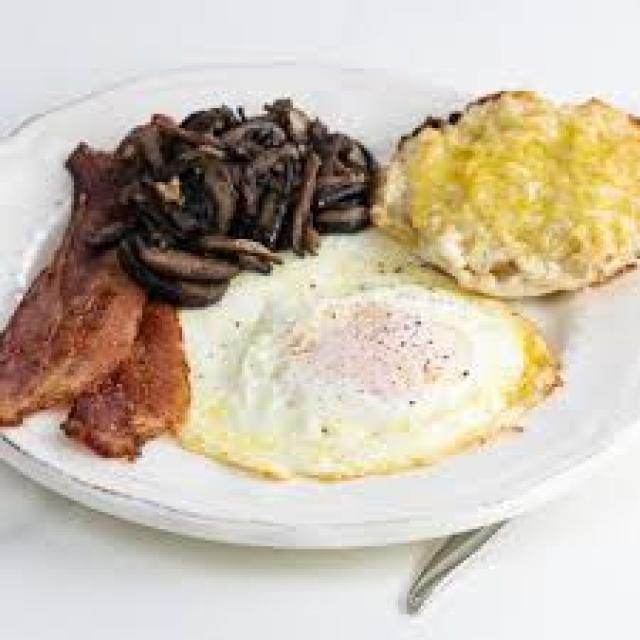Bacon: (0, 144, 148, 426), (61, 299, 190, 458)
Egg: (181, 229, 558, 479), (378, 91, 639, 297)
